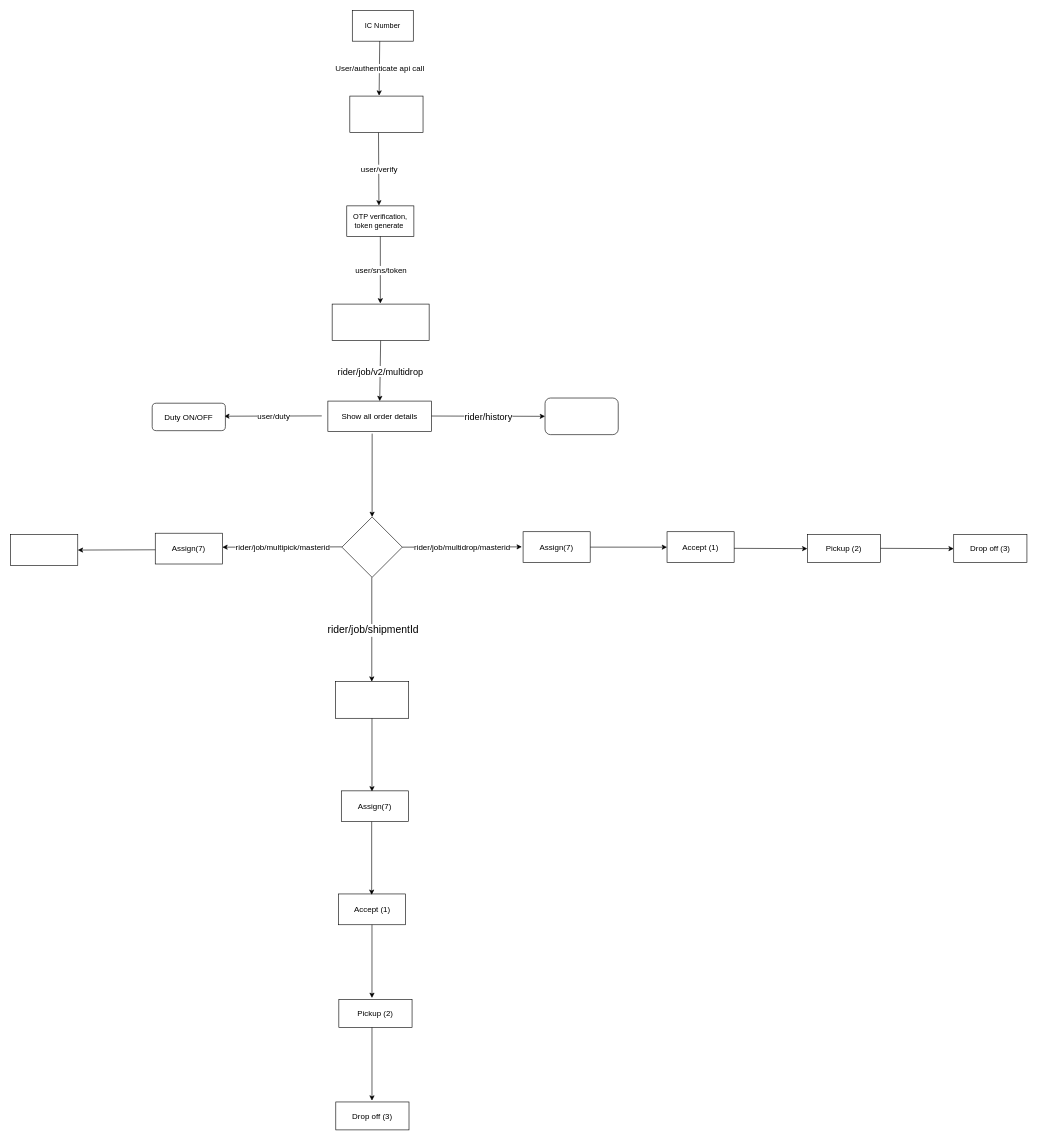
The diagram is 1038 pixels wide and 1141 high, and some of its shapes have lost their labels. Here are the shapes that lost their labels. From the top down, the centre of each, then its label:
At (386,114): "IC Number verification".
At (380,322): "Register, data show from shared preference".
At (581,416): "History show".
At (44,549): "pickup(2)".
At (371,546): "Decision".
At (372,699): "Single Drop Details".
